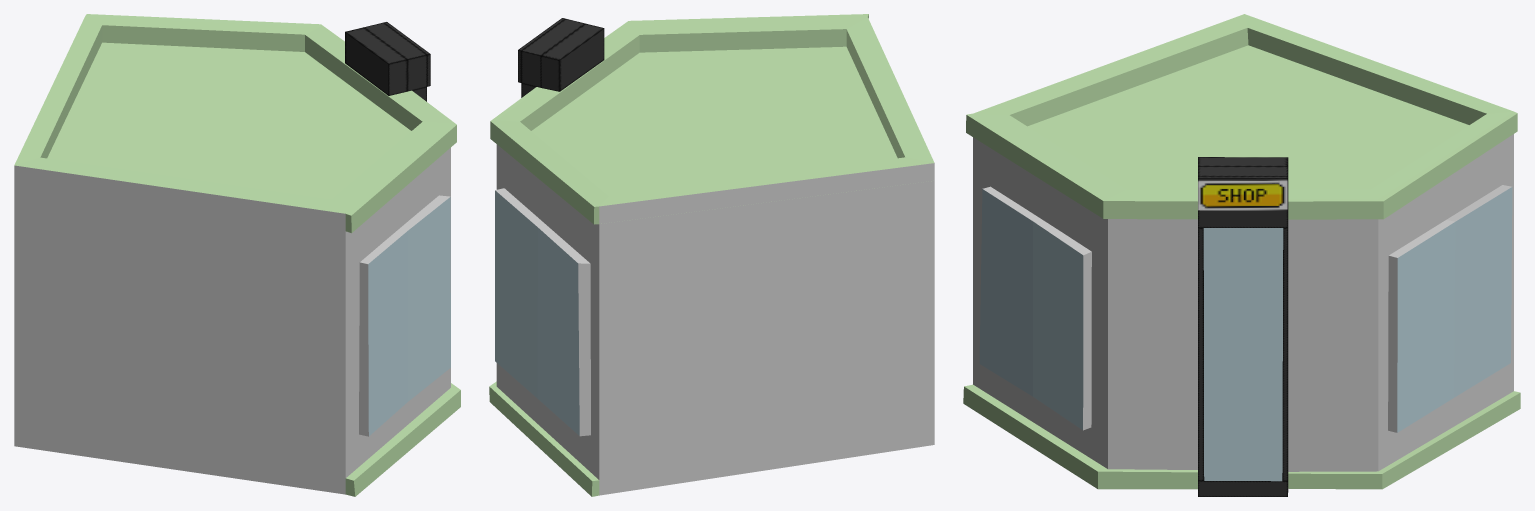
File: supermarket.fbx
The picture shows the model from 3 angles, left to right: view 1: azimuth 30°, elevation 25°; view 2: azimuth 150°, elevation 25°; view 3: azimuth 270°, elevation 25°; orthographic projection. The views are drawn at different scales.
Parts seen in each view (by area): view 1: Cube; view 2: Cube; view 3: Cube.
Boxes of the visible parts, x1,y1,x2,y2 form: Cube: [14, 14, 460, 496]; Cube: [489, 14, 934, 496]; Cube: [963, 14, 1520, 496].
Size of the model in its own units: 389 by 299 by 465.
Materials: 4 (1 with a texture image).
